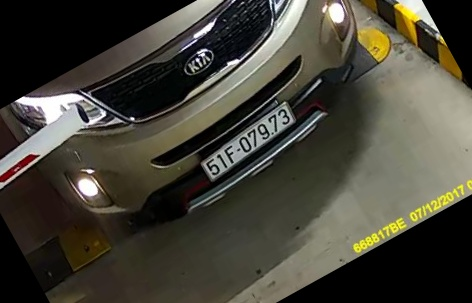plate: (201, 101, 304, 189)
